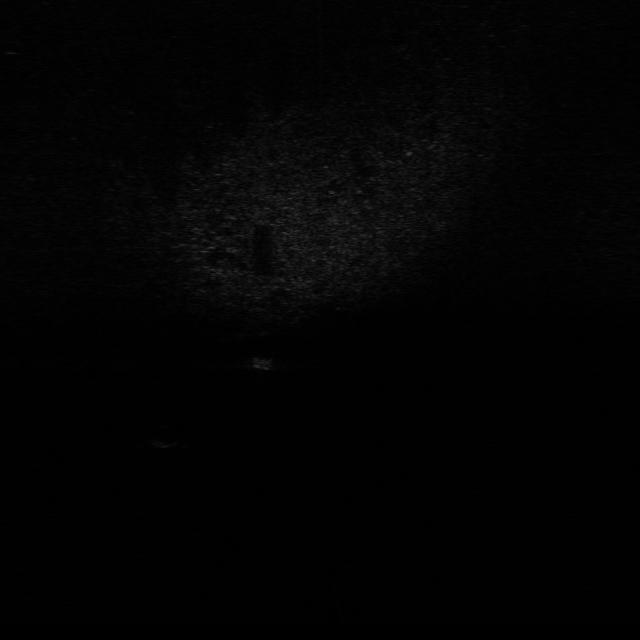ball: (146, 422, 182, 448)
cube: (247, 350, 287, 371)
